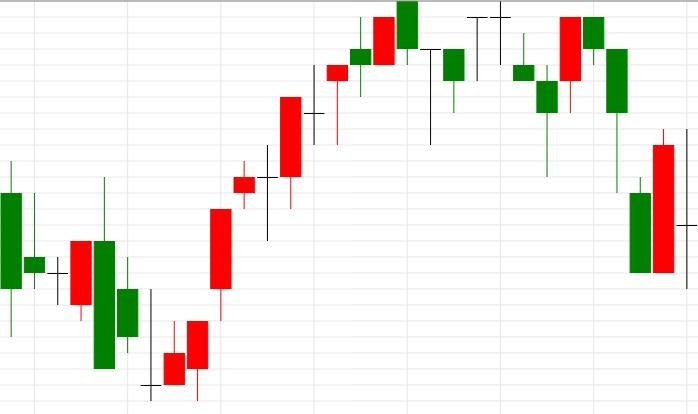bullish_engulfing_rise: (583, 16, 675, 274)
three_black_crows_fall: (536, 16, 652, 274)
